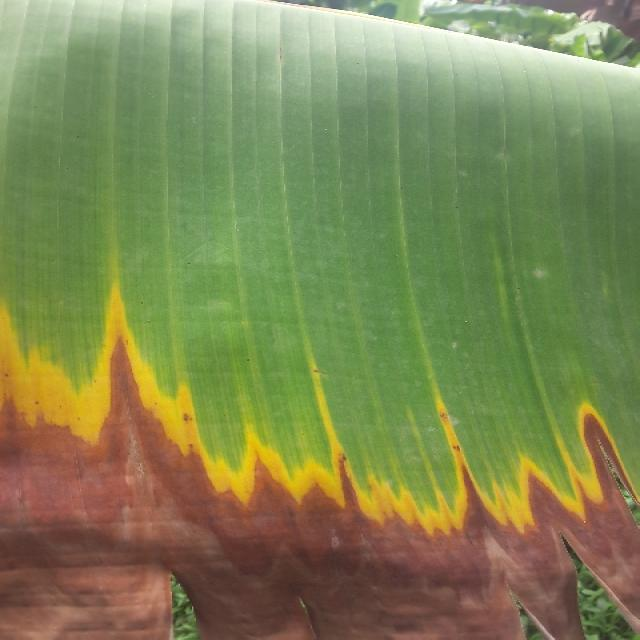Cordana: (0, 240, 640, 541)
